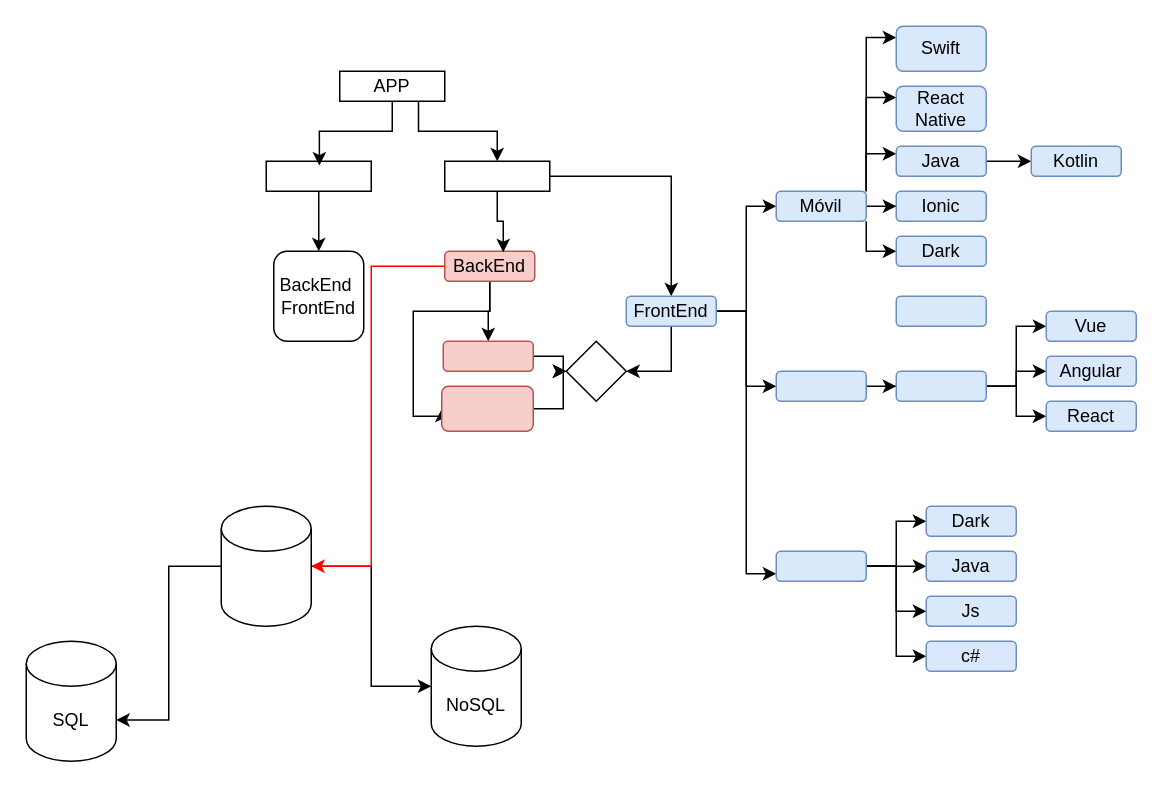
Image size: 1163x788. Some labels were removed from this diagram. Here are the shapes that lost their labels. From the top down, the box of each, then its label:
(265, 160, 371, 191): Monolítica
(443, 160, 550, 191): Distribuida
(895, 295, 986, 326): Native
(442, 340, 533, 371): Express
(565, 340, 626, 401): API
(775, 370, 866, 401): Web
(895, 370, 986, 401): Node
(440, 385, 533, 431): Spring Boot
(220, 505, 311, 626): BD
(775, 550, 866, 581): Escritorio
